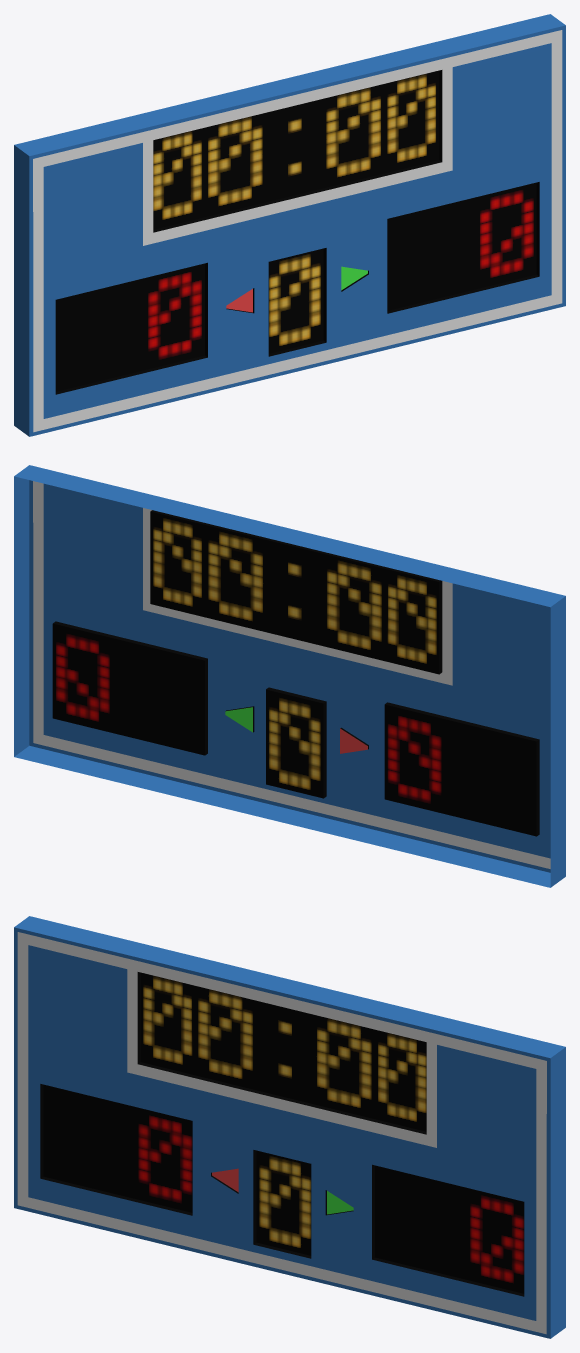
The model's file is Int_GymScoreboard01.fbx.
3 views of the same model, one above another, from view 1: azimuth 30°, elevation 25°; view 2: azimuth 150°, elevation 25°; view 3: azimuth 330°, elevation 25° (orthographic).
Visible parts, largest first — view 1: Int_GymScoreboard01; view 2: Int_GymScoreboard01; view 3: Int_GymScoreboard01.
Boxes of the visible parts, x1,y1,x2,y2 form: Int_GymScoreboard01: [14, 14, 565, 436]; Int_GymScoreboard01: [14, 465, 565, 887]; Int_GymScoreboard01: [14, 916, 565, 1338].
Size of what is drawn, in the model's own units: 300 by 15 by 150.
